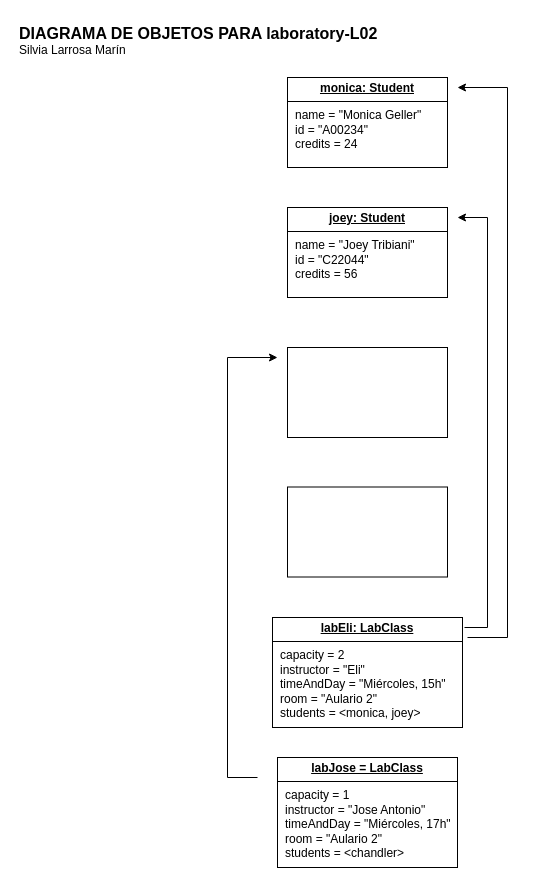
Some shapes in this 533 by 885 pixel diagram are drawn without their labels. Each missing label, with the centre of its shape:
chandler: Student name = "Chandler Bing" id = "A12003" credits = 6: point (367, 392)
rachel: Student name = "Rachel Green" id = "B66003" credits = 12: point (367, 531)
